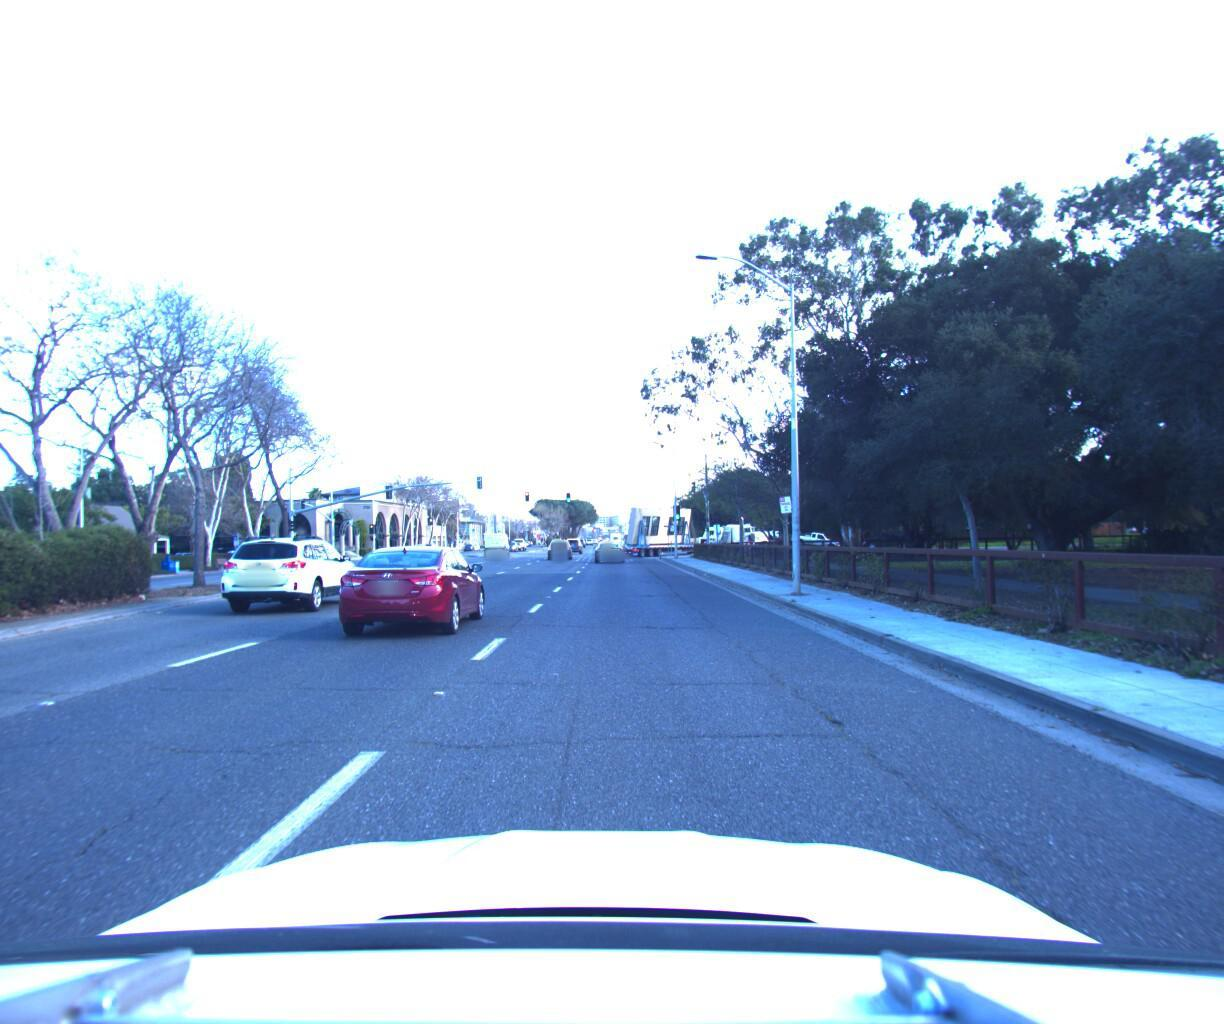car: (329, 532, 490, 639), (217, 522, 368, 612), (789, 521, 839, 541), (482, 523, 512, 549), (591, 531, 621, 555), (547, 529, 574, 551), (565, 528, 584, 545)
other_vehicle: (611, 493, 724, 547)
truck: (688, 514, 790, 541), (715, 513, 780, 542)
